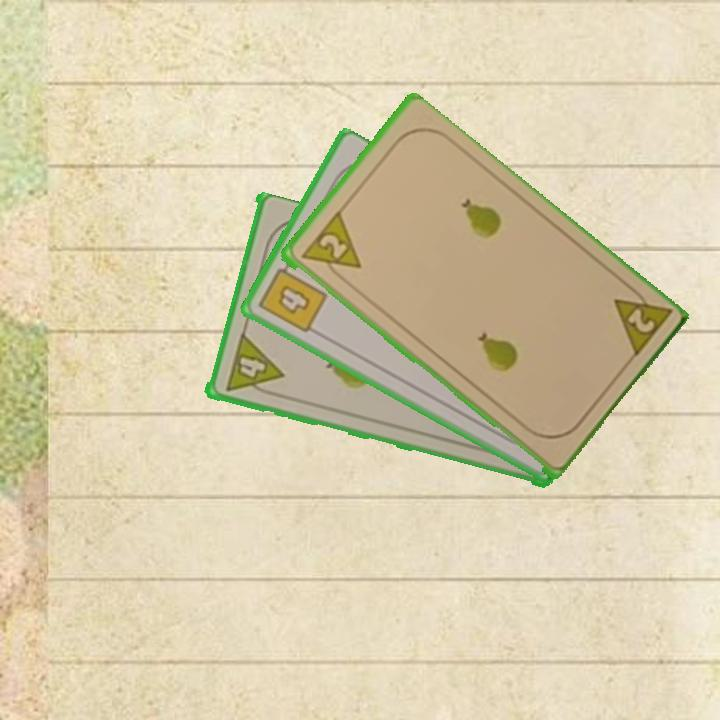2p: (608, 279, 673, 362), (296, 209, 364, 285)
4b: (255, 257, 331, 336)
4p: (221, 331, 285, 400)
